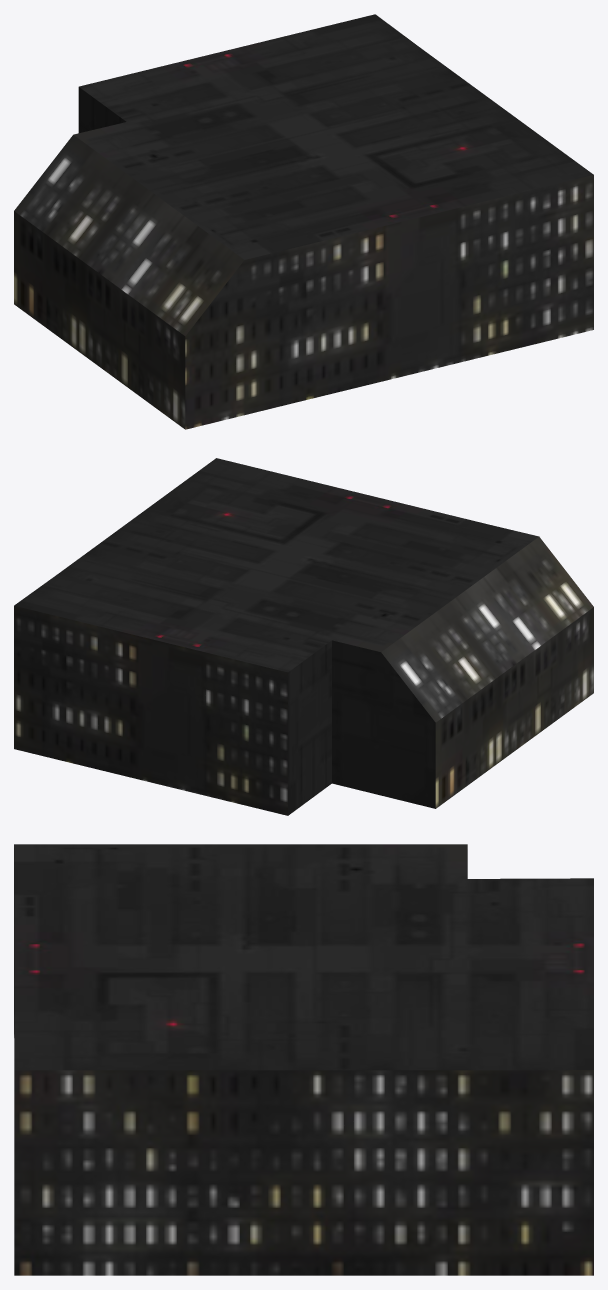
Rendered from scifi_building_16.obj.
3 views of the same model, one above another, from view 1: azimuth 30°, elevation 25°; view 2: azimuth 150°, elevation 25°; view 3: azimuth 270°, elevation 25° (orthographic). The views are drawn at different scales.
Visible parts, largest first — view 1: building_16; view 2: building_16; view 3: building_16.
Part boxes in pixels (<box>): building_16: <box>14,14,593,429</box>; building_16: <box>14,458,593,815</box>; building_16: <box>14,844,593,1275</box>.
Size of the model in its own units: 52.89 by 19.19 by 49.06.
